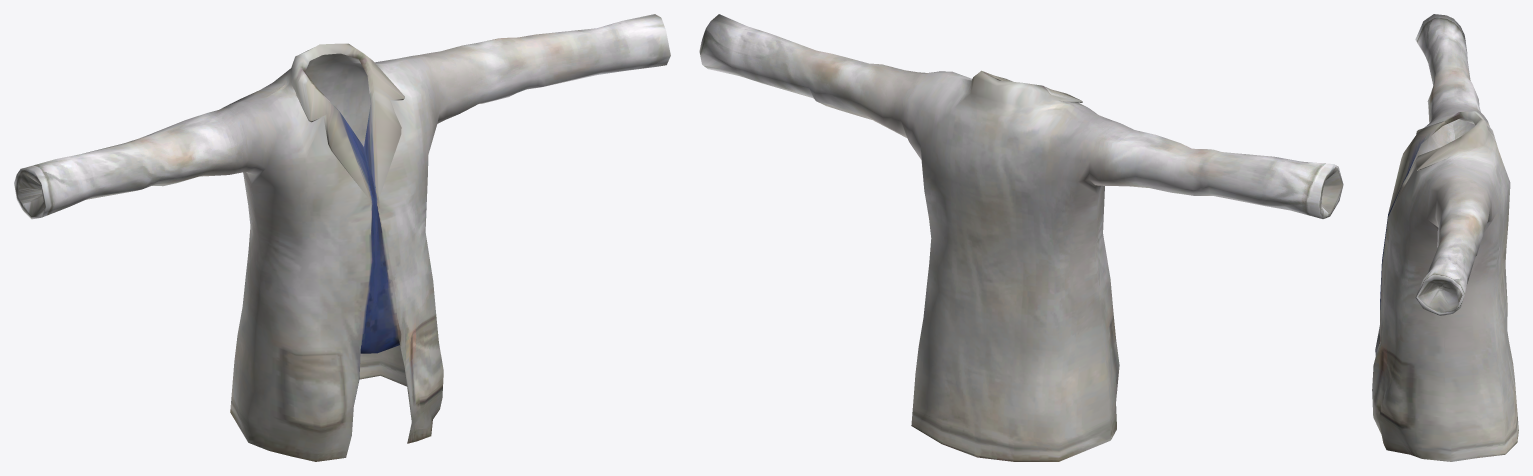
File: shirtShape.obj
The picture shows the model from 3 angles, left to right: view 1: azimuth 30°, elevation 25°; view 2: azimuth 150°, elevation 25°; view 3: azimuth 270°, elevation 25°; orthographic projection. The views are drawn at different scales.
Visible parts, largest first — view 1: shirt CharacterRoot; view 2: shirt CharacterRoot; view 3: shirt CharacterRoot.
Boxes of the visible parts, x1,y1,x2,y2 form: shirt CharacterRoot: [14, 14, 670, 461]; shirt CharacterRoot: [699, 14, 1343, 461]; shirt CharacterRoot: [1372, 14, 1518, 461].
Bounding box in the file's own units: 142 × 79.1 × 33.76.
1 material, 1 textured.
